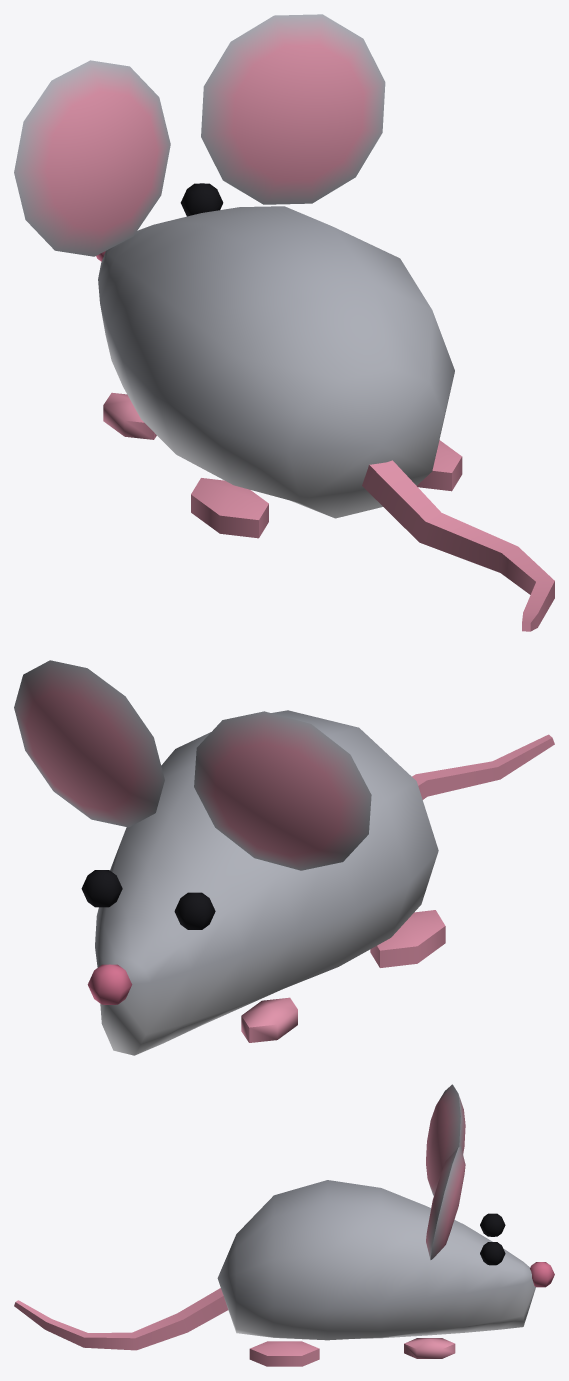
Rendered from raton.glb.
3 views of the same model, one above another, from view 1: azimuth 30°, elevation 25°; view 2: azimuth 150°, elevation 25°; view 3: azimuth 270°, elevation 25° (orthographic). The views are drawn at different scales.
Parts seen in each view (by area): view 1: raton; view 2: raton; view 3: raton.
Boxes of the visible parts, left/top/right/bottom form: raton: left=14, top=14, right=554, bottom=631; raton: left=14, top=660, right=554, bottom=1055; raton: left=14, top=1084, right=554, bottom=1366.
Bounding box in the file's own units: 0.9619 × 0.8889 × 2.02.
